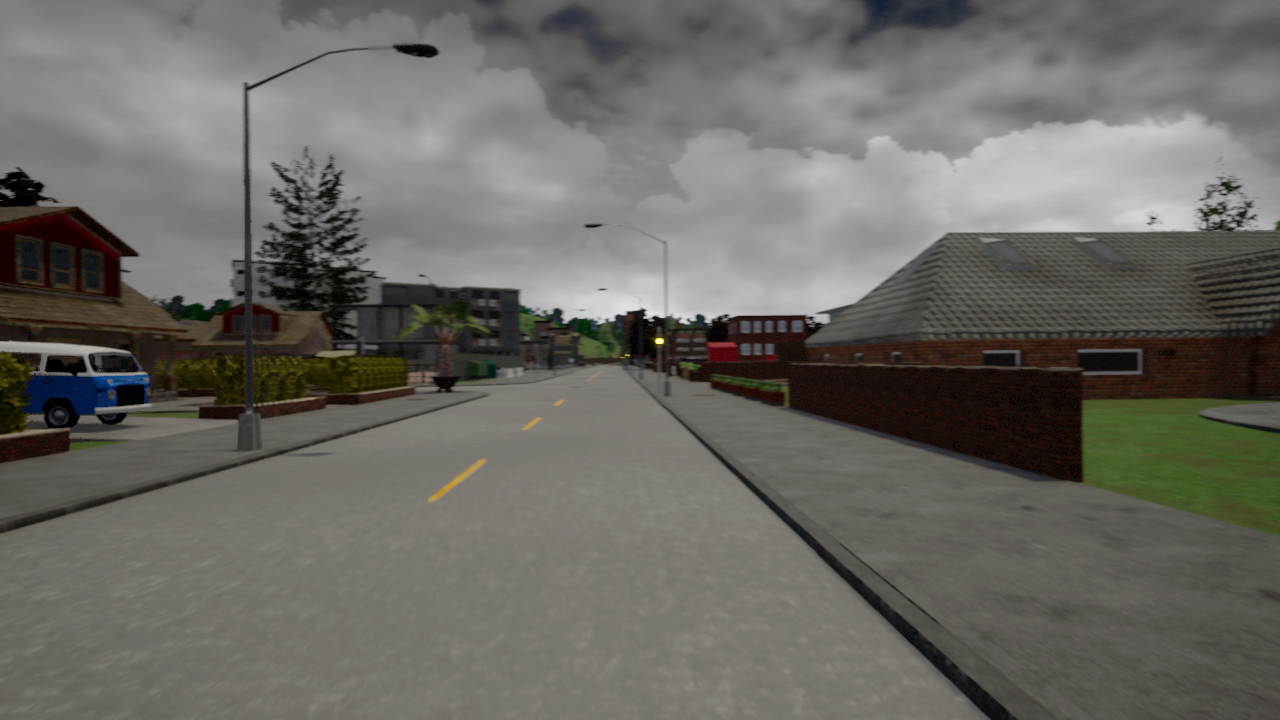yellow: (655, 331, 664, 351)
